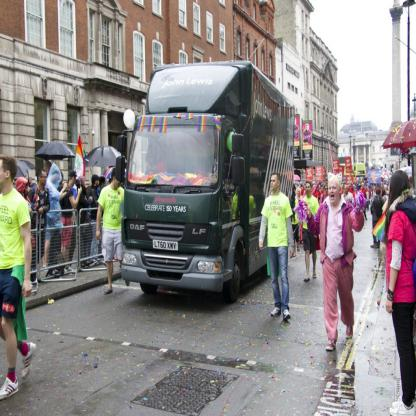Truck: (112, 55, 321, 308)
